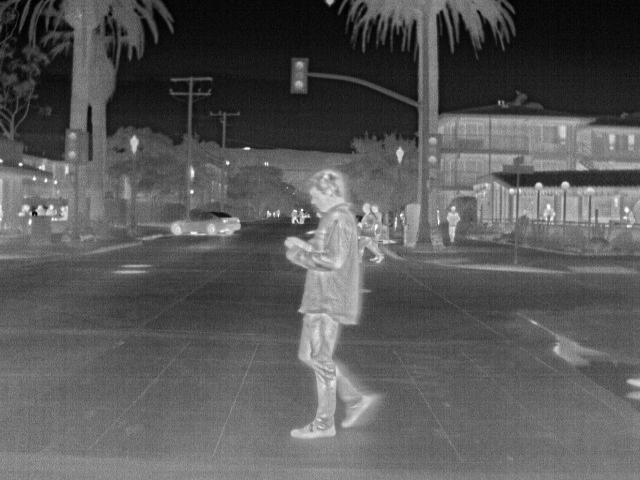car: (170, 208, 242, 239)
person: (282, 168, 377, 440), (358, 204, 385, 262), (445, 204, 461, 246), (370, 204, 384, 236), (621, 205, 636, 230), (538, 203, 556, 223), (17, 204, 34, 218), (33, 204, 47, 218), (45, 204, 58, 218), (298, 207, 307, 225), (290, 207, 298, 227)
